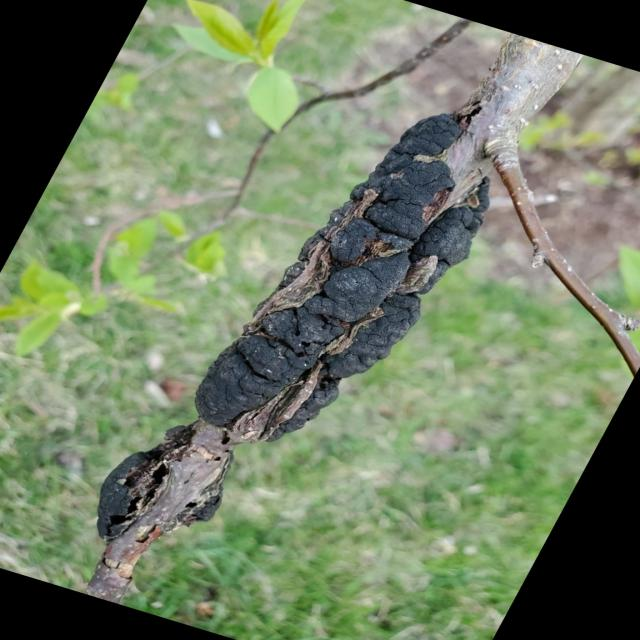Black_knot: (87, 110, 493, 600)
